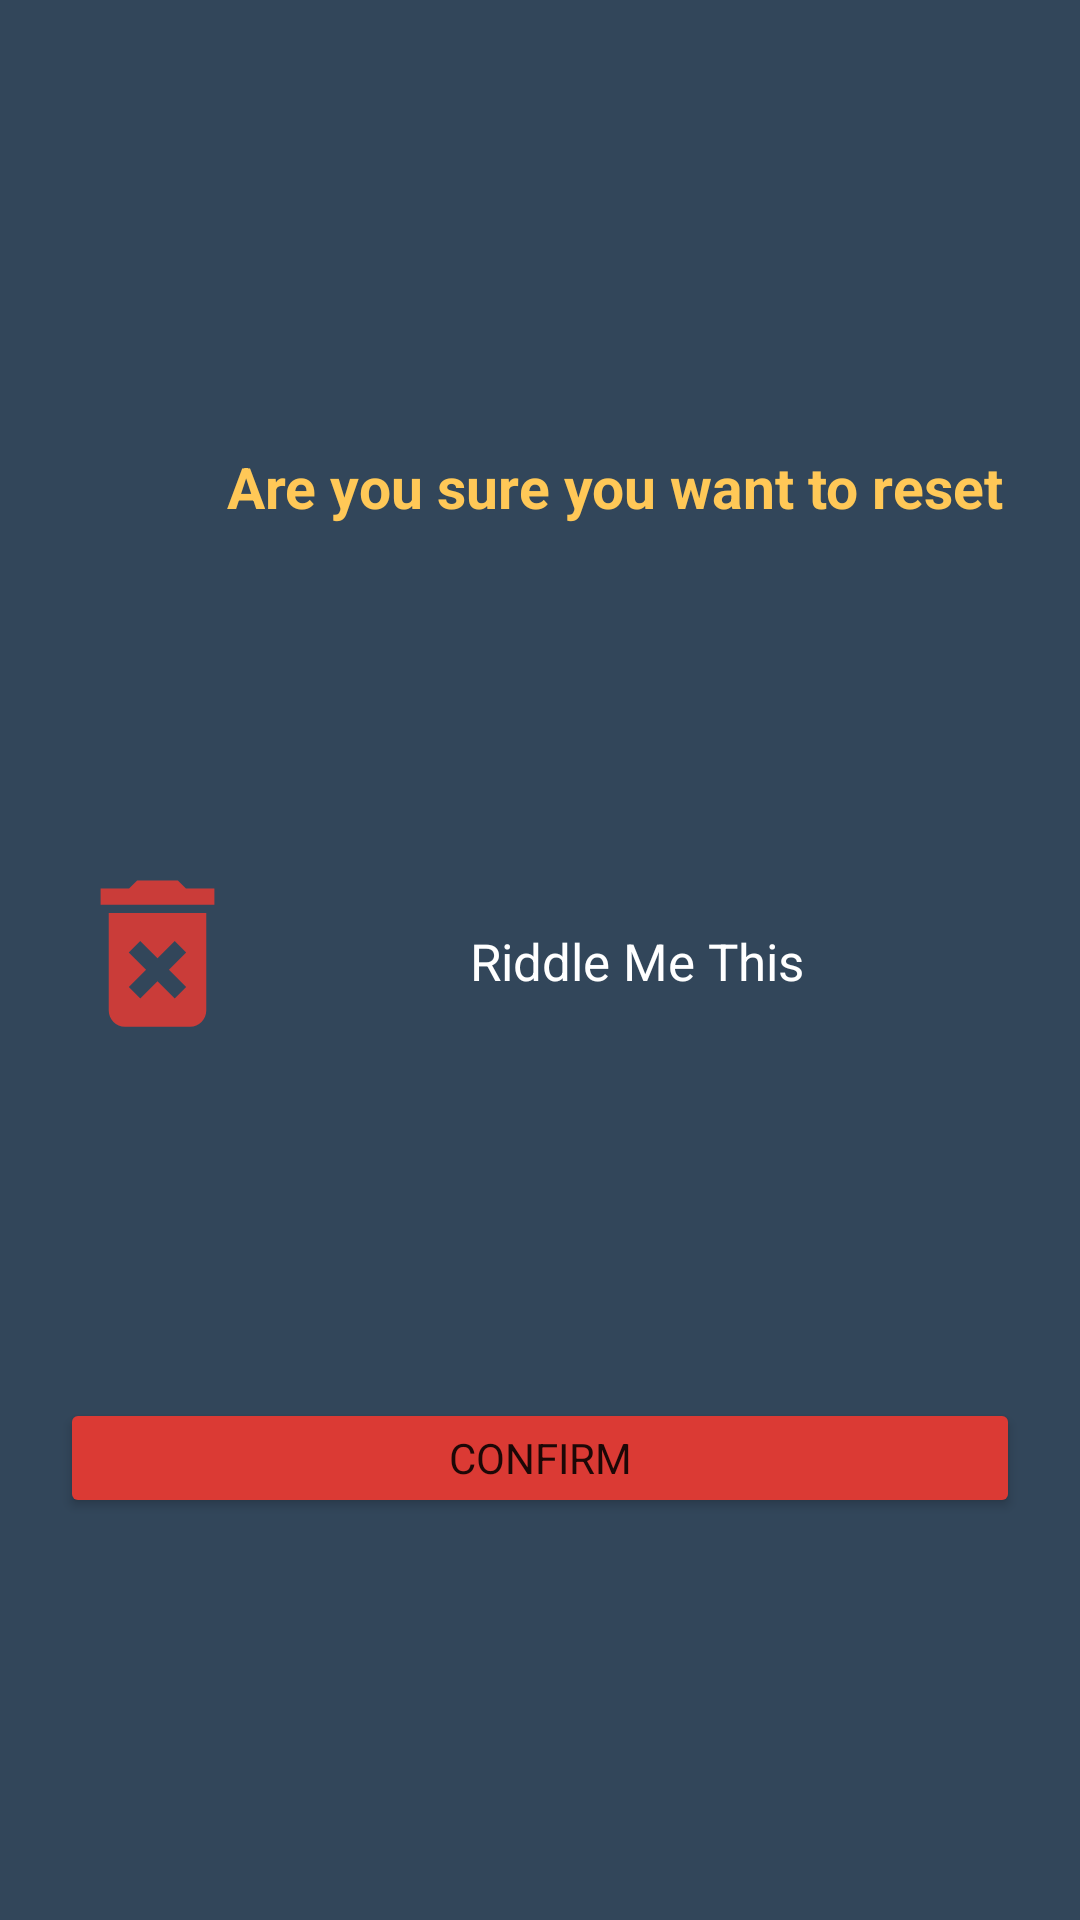

Where to tap for icons on this 1080x1920 app screen, as [x,y]:
delete forever: [157,953]
